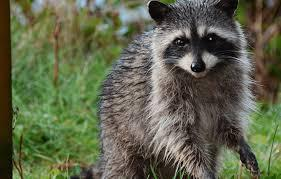raccoon: (86, 0, 278, 179)
